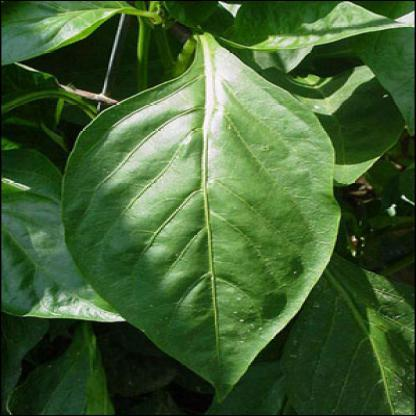Bell_pepper leaf spot: (55, 60, 348, 408)
